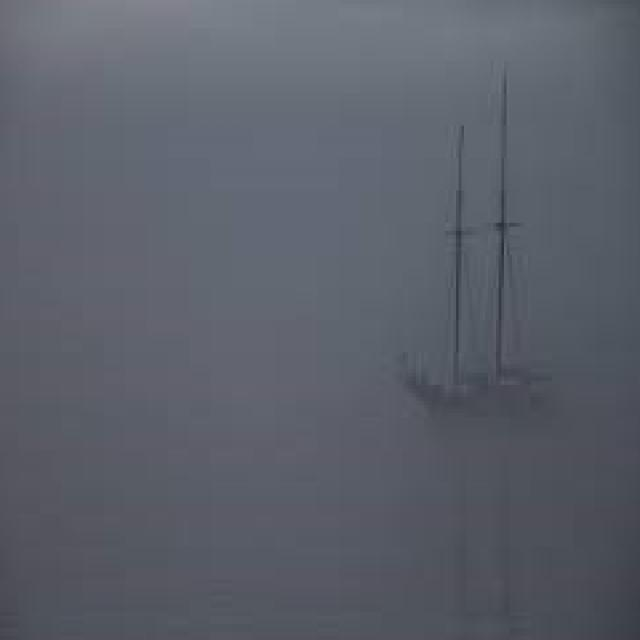fishing boat: (393, 92, 547, 450)
